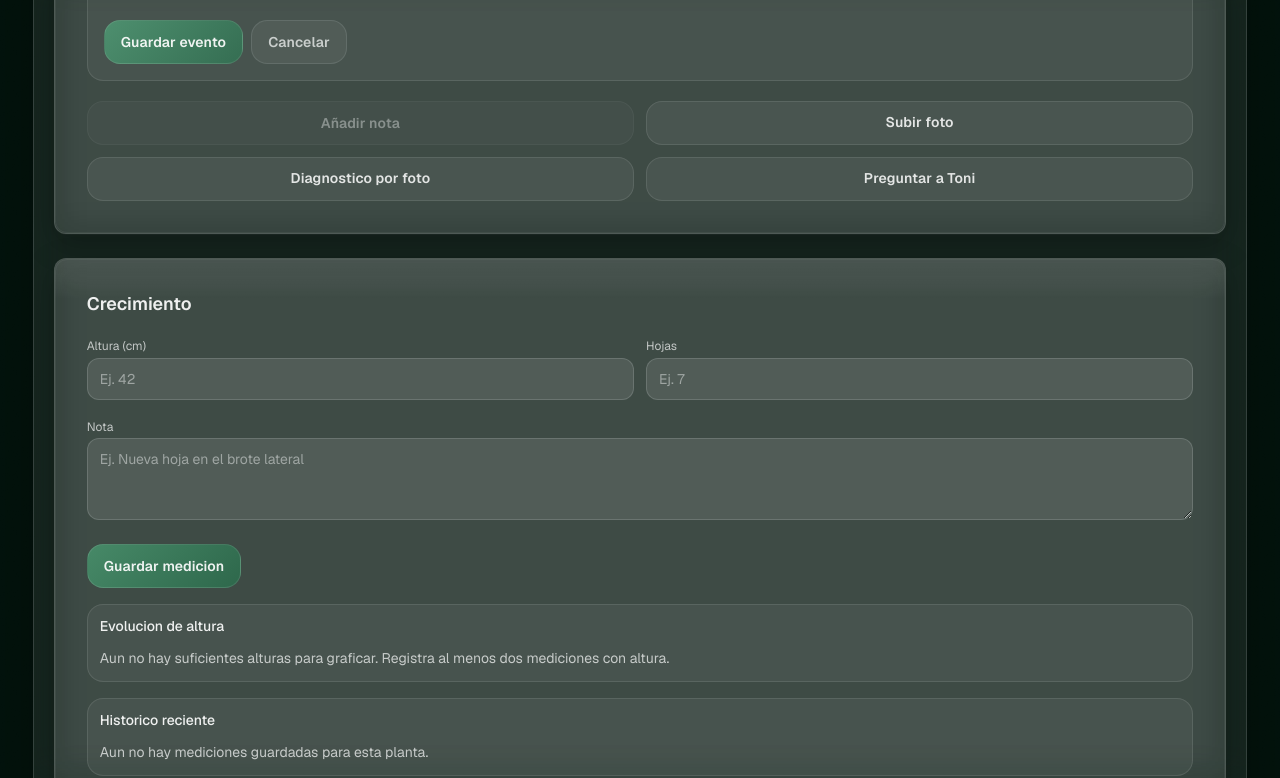
Test: garden/[plantId] growth measurement form › shows visible error when save fails
(page scrolled)
In the number field labelled "Altura (cm)": (360, 379) [87,358,634,400], type "42"
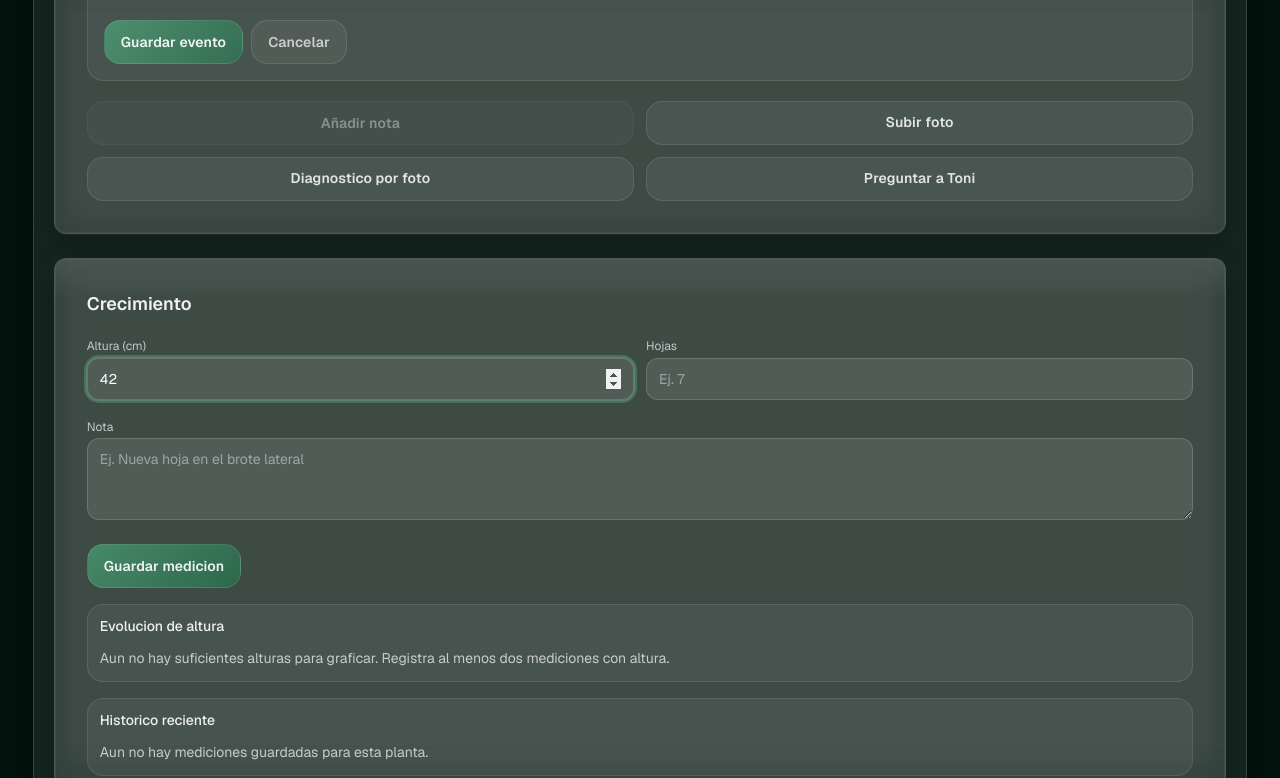
Click the button "Guardar medicion": click(164, 566) [87,544,241,588]
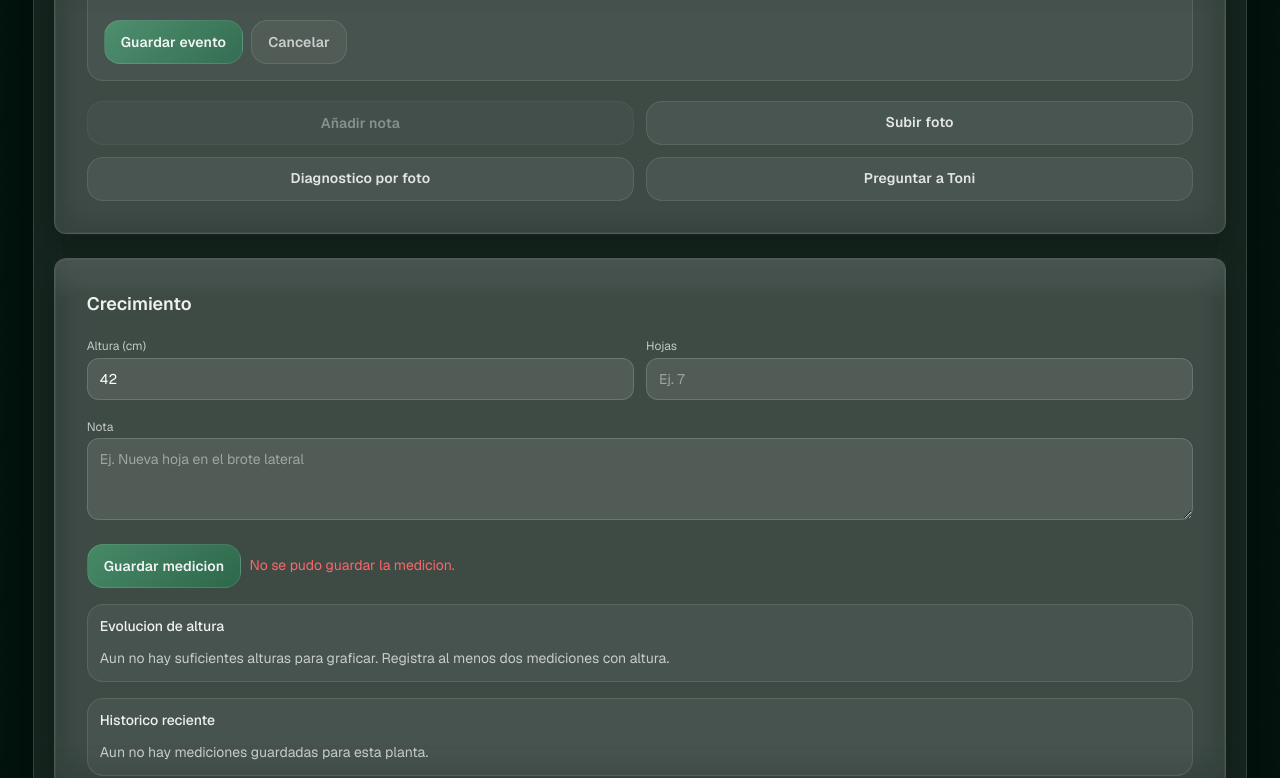
Check: the text "No se pudo guardar la medicion." is shown, box [249,556,455,576]
